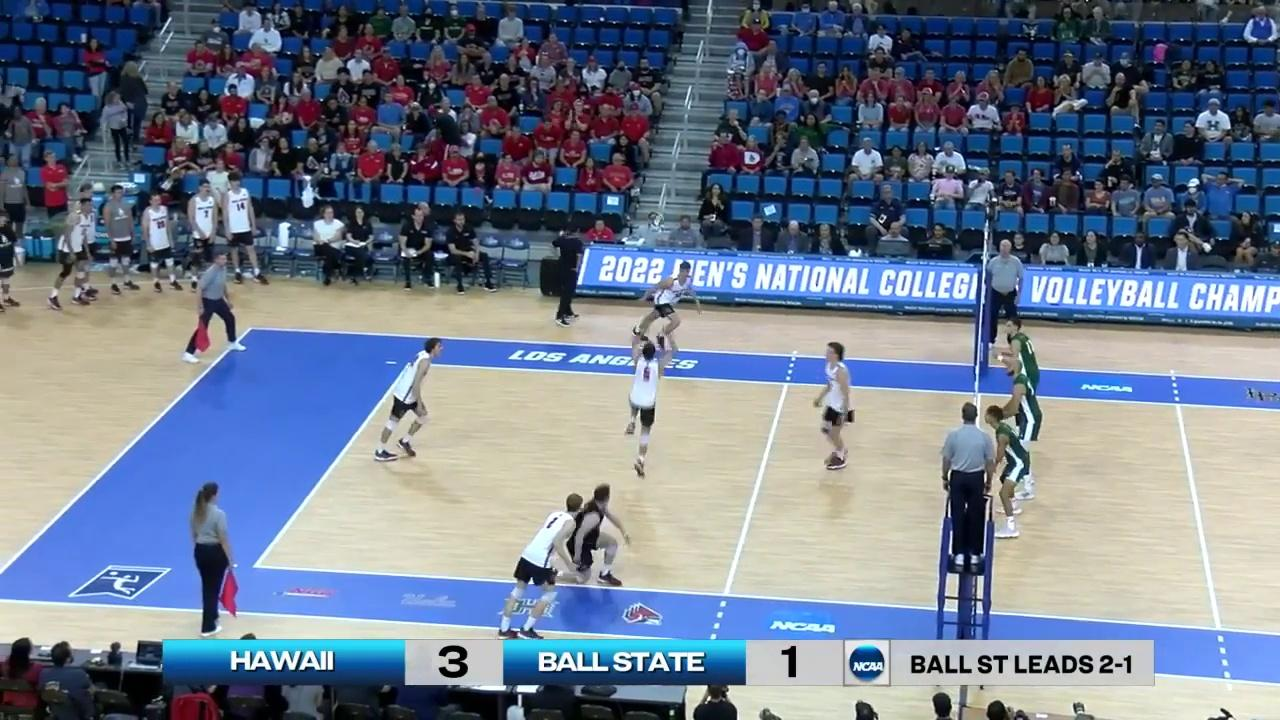player: (500, 492, 583, 639), (547, 484, 631, 591), (375, 339, 443, 462), (1001, 360, 1043, 503), (628, 265, 696, 353), (986, 404, 1029, 543), (999, 319, 1041, 442), (815, 342, 855, 470), (625, 342, 664, 473)
refree: (940, 403, 994, 578), (187, 482, 235, 635), (186, 252, 243, 364), (985, 239, 1023, 354)
